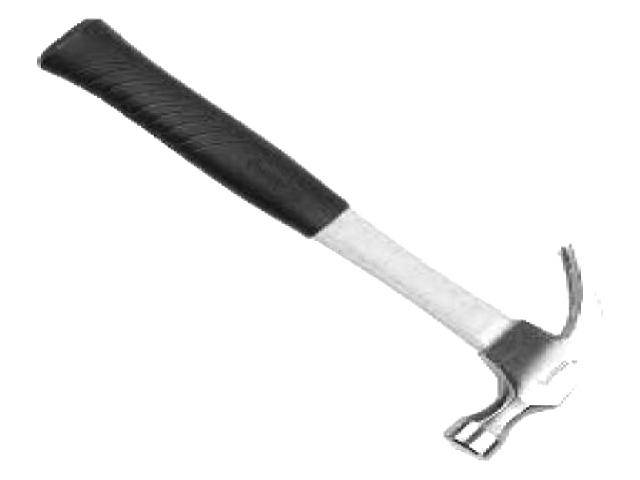Hammer: (40, 20, 601, 460)
